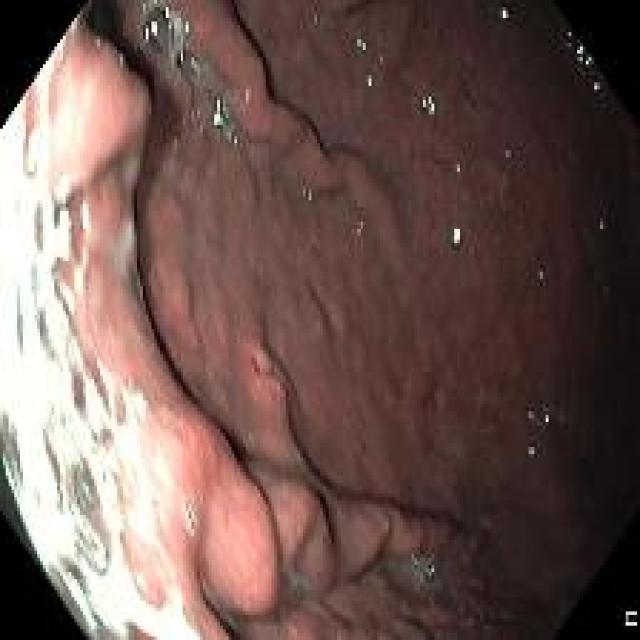blur: (1, 1, 226, 638)
bubbles: (190, 62, 233, 129), (141, 8, 179, 52), (175, 49, 202, 79), (299, 184, 319, 209), (422, 559, 437, 583)
color misalignment: (624, 612, 637, 626)
contrast: (551, 4, 636, 636), (507, 549, 636, 637)
saturation: (0, 38, 200, 640)
specularity: (211, 94, 229, 128), (576, 43, 593, 66), (421, 93, 437, 116), (143, 19, 158, 42), (183, 503, 195, 526), (81, 201, 90, 229), (451, 224, 462, 244), (165, 5, 174, 21), (365, 71, 373, 88), (229, 131, 238, 145), (500, 7, 508, 20), (357, 36, 365, 47), (184, 19, 189, 36), (528, 446, 535, 458), (543, 414, 550, 426), (177, 50, 183, 64), (454, 161, 460, 174), (593, 81, 599, 93), (192, 57, 196, 69)
